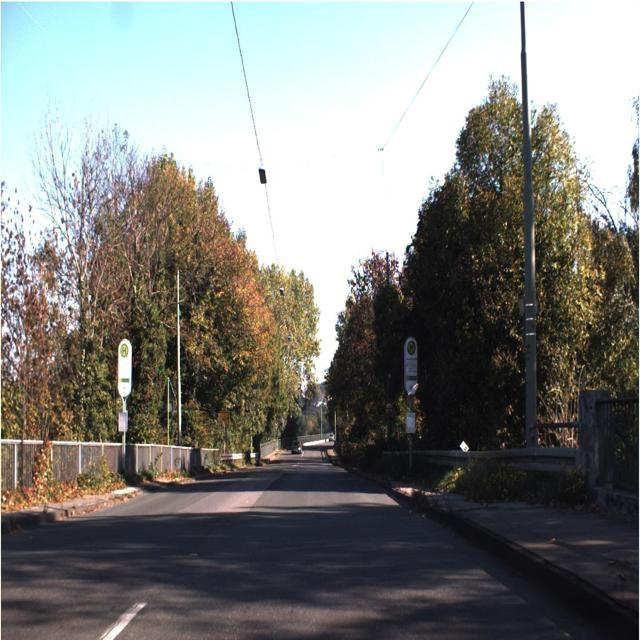forb_overtake: (384, 399, 394, 417)
